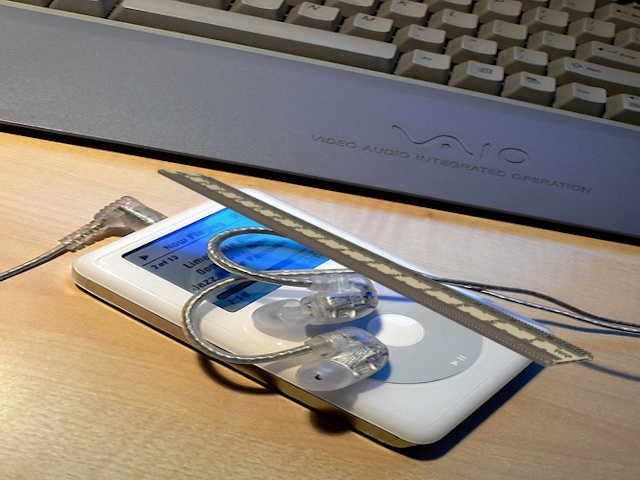ruler: (145, 160, 608, 369)
